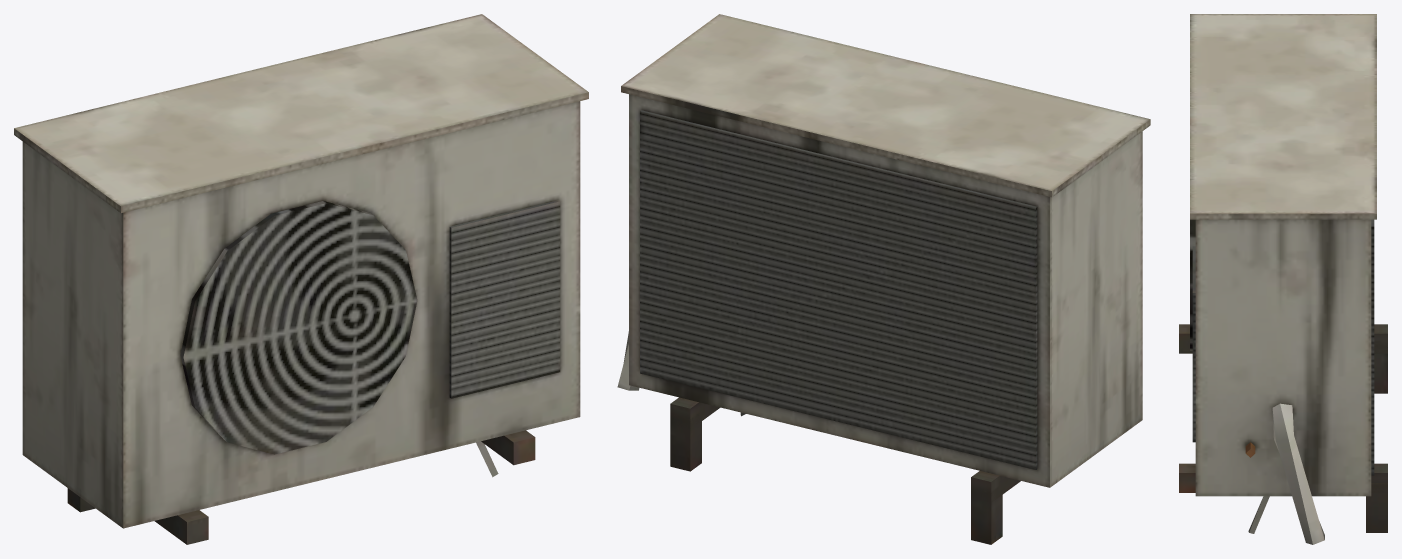
The model's file is ac_unit.glb.
3 renders of one model, left to right at view 1: azimuth 30°, elevation 25°; view 2: azimuth 150°, elevation 25°; view 3: azimuth 270°, elevation 25°, orthographic. The views are drawn at different scales.
Visible parts, largest first — view 1: body; view 2: body; view 3: body.
Part boxes in pixels (left/top/right/bottom): body: left=14, top=14, right=588, bottom=544; body: left=617, top=14, right=1150, bottom=544; body: left=1179, top=14, right=1387, bottom=544.
Bounding box in the file's own units: 0.929 × 0.6948 × 0.38.
1 material, 1 textured.
